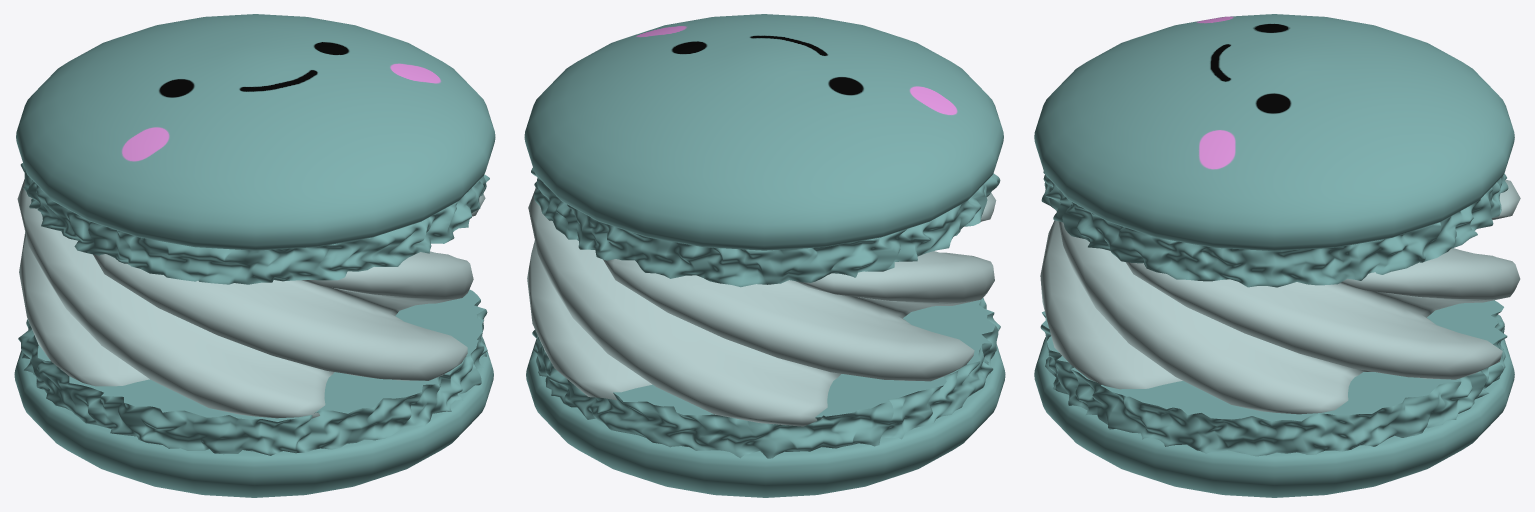
File: macaron_1.fbx
3 renders of one model, left to right at view 1: azimuth 30°, elevation 25°; view 2: azimuth 150°, elevation 25°; view 3: azimuth 270°, elevation 25°, orthographic.
Parts seen in each view (by area): view 1: Cylinder007; view 2: Cylinder007; view 3: Cylinder007.
Boxes of the visible parts, x1,y1,x2,y2 form: Cylinder007: (14, 14, 495, 497); Cylinder007: (524, 14, 1005, 497); Cylinder007: (1034, 14, 1520, 497).
Bounding box in the file's own units: 30.83 × 28.04 × 31.1.
